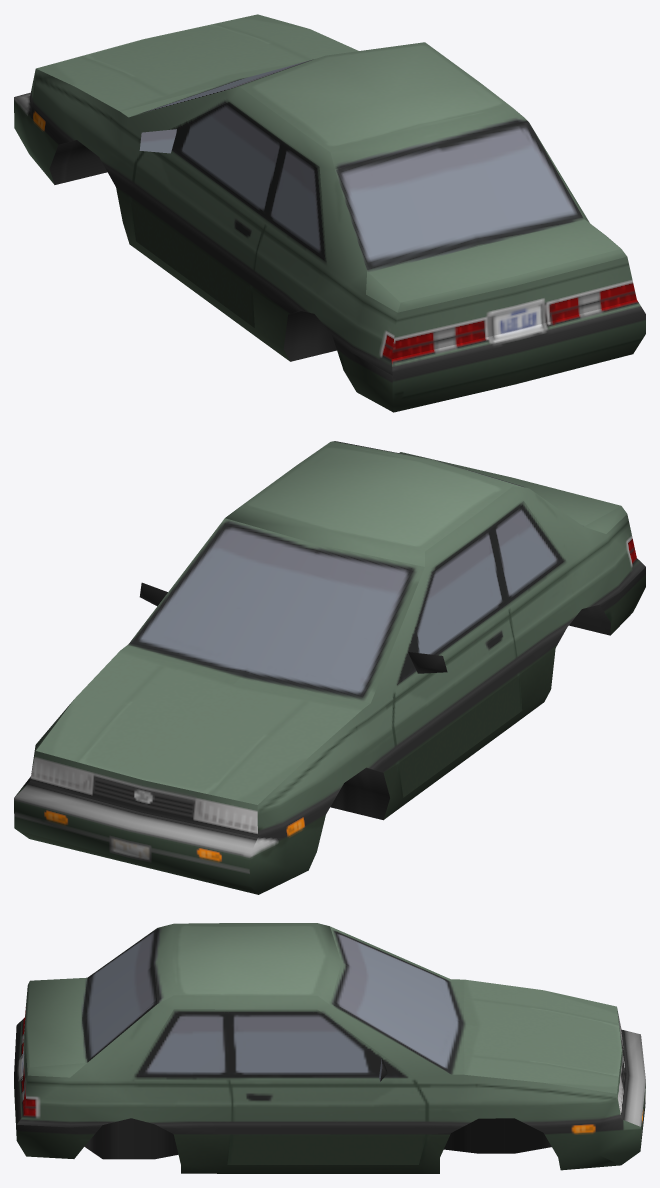
Rendered from Vehicles_SmallCar02.FBX.
3 renders of one model, top to bottom at view 1: azimuth 30°, elevation 25°; view 2: azimuth 150°, elevation 25°; view 3: azimuth 270°, elevation 25°, orthographic. The views are drawn at different scales.
Parts seen in each view (by area): view 1: Vehicles_SmallCar02; view 2: Vehicles_SmallCar02; view 3: Vehicles_SmallCar02.
Part boxes in pixels (x1,y1,x2,y2): Vehicles_SmallCar02: (14, 14, 645, 412); Vehicles_SmallCar02: (14, 441, 645, 894); Vehicles_SmallCar02: (14, 923, 645, 1173).
Size of the model in its own units: 99.66 by 66.65 by 220.
1 material, 1 textured.
